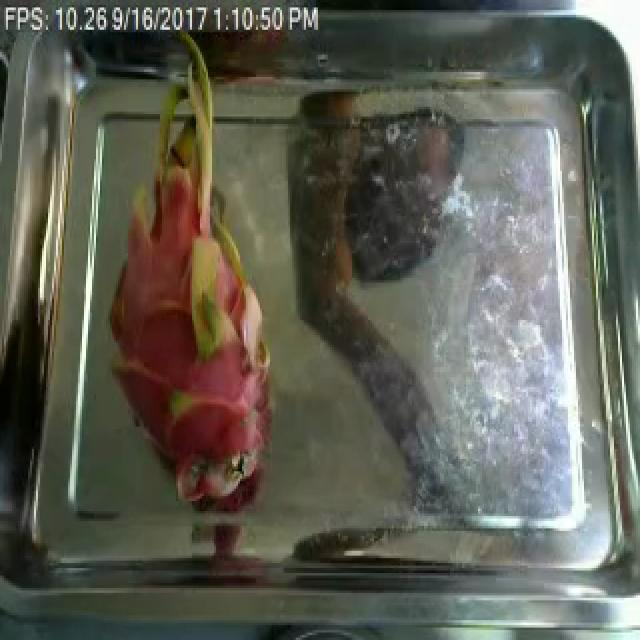fruit: (84, 39, 290, 488)
